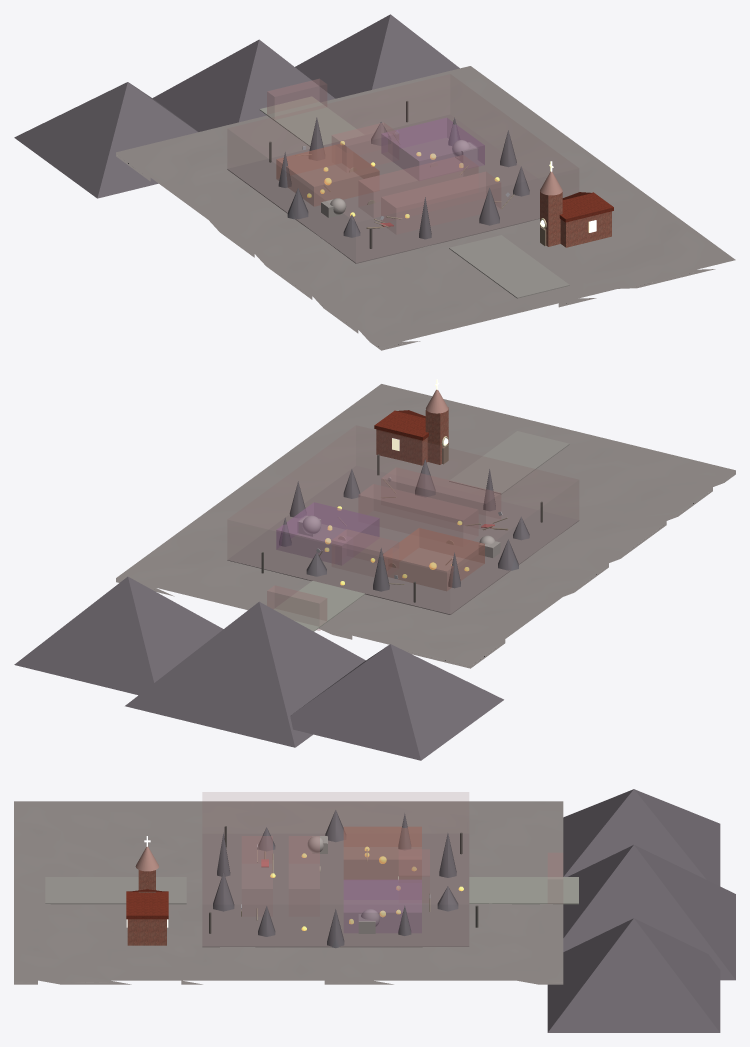
The model's file is valley_humiliation.glb.
3 views of the same model, one above another, from view 1: azimuth 30°, elevation 25°; view 2: azimuth 150°, elevation 25°; view 3: azimuth 270°, elevation 25° (orthographic). The views are drawn at different scales.
Visible parts, largest first — view 1: ENV_Humiliation_ValleyFloor, VIS_PROP_Ridge_Brood (×3), ENV_Humiliation_BossArena, COL_BossArenaBounds, COL_ShameFieldZone, TRIGGER_ApollyonIntro, COL_DespairFlameZone, ENV_Humiliation_DescentPath, VIS_PROP_Chapel (×3), TRIGGER_BossStart, ENV_Humiliation_ExitPath, TRIGGER_BossVictory (+1 smaller); view 2: ENV_Humiliation_ValleyFloor, VIS_PROP_Ridge_Brood (×3), ENV_Humiliation_BossArena, COL_BossArenaBounds, COL_ShameFieldZone, COL_DespairFlameZone, TRIGGER_BossStart, ENV_Humiliation_DescentPath, VIS_PROP_Chapel (×3), TRIGGER_ApollyonIntro, ENV_Humiliation_ExitPath, TRIGGER_BossVictory (+1 smaller); view 3: ENV_Humiliation_ValleyFloor, VIS_PROP_Ridge_Brood (×3), ENV_Humiliation_BossArena, COL_BossArenaBounds, COL_DespairFlameZone, COL_ShameFieldZone, ENV_Humiliation_DescentPath, ENV_Humiliation_ExitPath, TRIGGER_BossStart, TRIGGER_ApollyonIntro, VIS_PROP_Chapel (×2), TRIGGER_BossVictory (+5 smaller).
Boxes of the visible parts, <box> form: ENV_Humiliation_ValleyFloor: <box>116,66,735,350</box>; VIS_PROP_Ridge_Brood (×3): <box>14,14,459,198</box>; ENV_Humiliation_BossArena: <box>227,114,563,263</box>; COL_BossArenaBounds: <box>228,74,578,196</box>; COL_ShameFieldZone: <box>381,117,484,180</box>; TRIGGER_ApollyonIntro: <box>381,172,500,234</box>; COL_DespairFlameZone: <box>276,143,379,206</box>; ENV_Humiliation_DescentPath: <box>449,235,569,298</box>; VIS_PROP_Chapel (×3): <box>540,189,613,247</box>; TRIGGER_BossStart: <box>358,155,478,217</box>; ENV_Humiliation_ExitPath: <box>259,96,364,146</box>; TRIGGER_BossVictory: <box>332,122,398,165</box>; ENV_Humiliation_ValleyFloor: <box>116,384,735,668</box>; VIS_PROP_Ridge_Brood (×3): <box>14,576,503,760</box>; ENV_Humiliation_BossArena: <box>227,465,579,614</box>; COL_BossArenaBounds: <box>228,426,578,558</box>; COL_ShameFieldZone: <box>276,502,379,565</box>; COL_DespairFlameZone: <box>383,528,484,590</box>; TRIGGER_BossStart: <box>358,484,478,539</box>; ENV_Humiliation_DescentPath: <box>449,431,569,494</box>; VIS_PROP_Chapel (×3): <box>374,407,448,465</box>; TRIGGER_ApollyonIntro: <box>381,467,500,529</box>; ENV_Humiliation_ExitPath: <box>273,581,364,631</box>; TRIGGER_BossVictory: <box>332,529,398,576</box>; ENV_Humiliation_ValleyFloor: <box>14,801,563,984</box>; VIS_PROP_Ridge_Brood (×3): <box>547,789,735,1032</box>; ENV_Humiliation_BossArena: <box>202,833,469,947</box>; COL_BossArenaBounds: <box>203,792,468,833</box>; COL_DespairFlameZone: <box>343,826,421,879</box>; COL_ShameFieldZone: <box>343,879,421,932</box>; ENV_Humiliation_DescentPath: <box>45,877,186,904</box>; ENV_Humiliation_ExitPath: <box>469,877,578,904</box>; TRIGGER_BossStart: <box>289,836,319,915</box>; TRIGGER_ApollyonIntro: <box>242,836,272,915</box>; VIS_PROP_Chapel (×2): <box>126,891,168,945</box>; TRIGGER_BossVictory: <box>399,849,429,902</box>.
Size of the model in its own units: 62 by 18.25 by 92.
32 materials, 2 textured.
